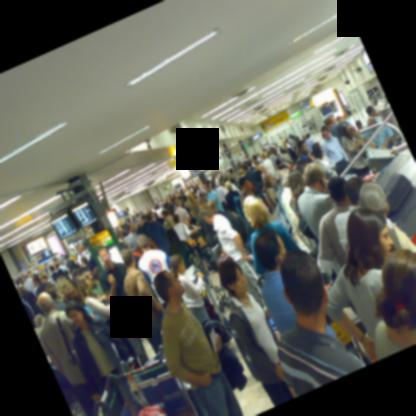backpack: (290, 194, 319, 249), (57, 311, 82, 370), (233, 195, 246, 221), (252, 168, 262, 183), (164, 218, 171, 227), (49, 278, 56, 283)
handbag: (55, 310, 83, 374), (182, 222, 198, 247), (104, 318, 125, 336)
suitcase: (375, 171, 412, 211), (255, 273, 266, 290)
